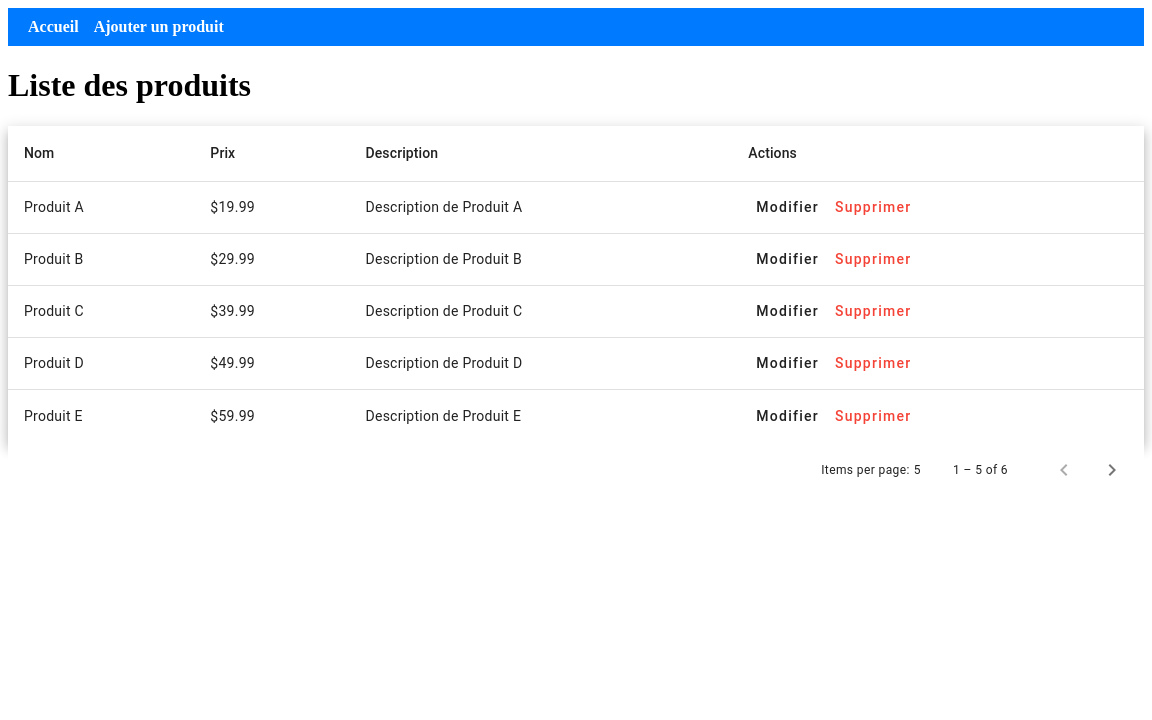
Liste des Produits - Test E2E avec Cypress et Angular Material MDC › Teste la pagination
Expected: the table is shown, [8,126,1144,442]
// Cliquer sur le bouton "Suivant"
Click the button named "Next page" at (1112, 470), box [1088,446,1136,494]
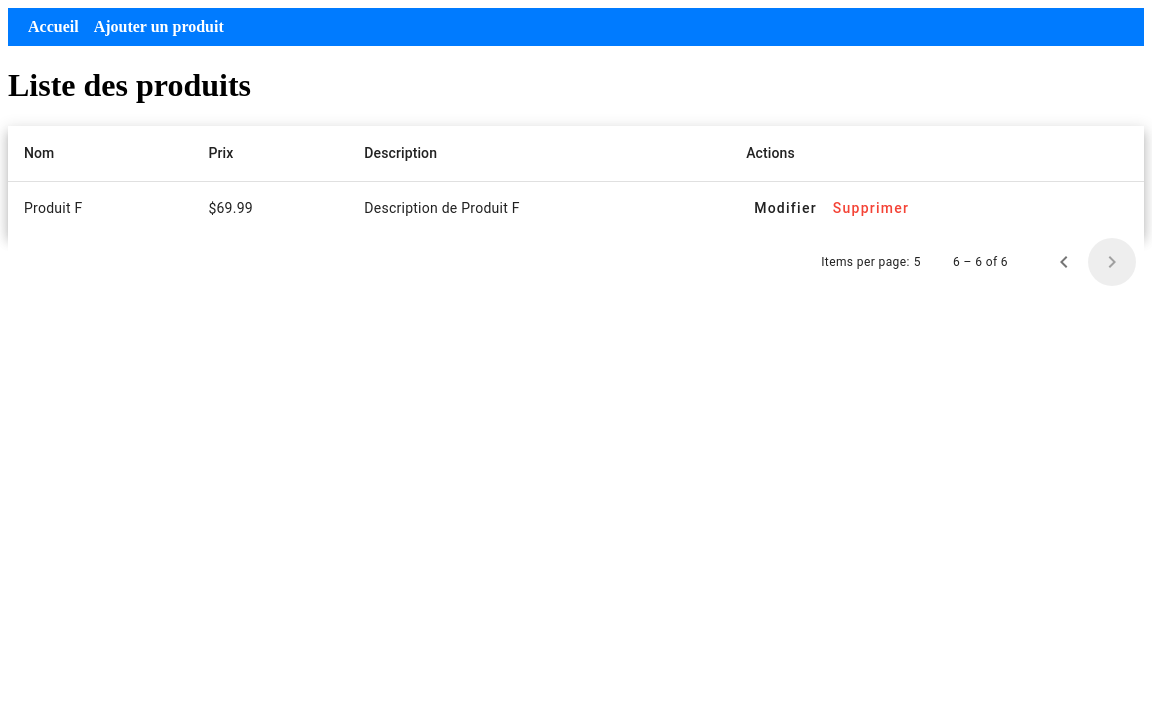
Expected: the text "Produit F" is shown, [8,182,192,234]
